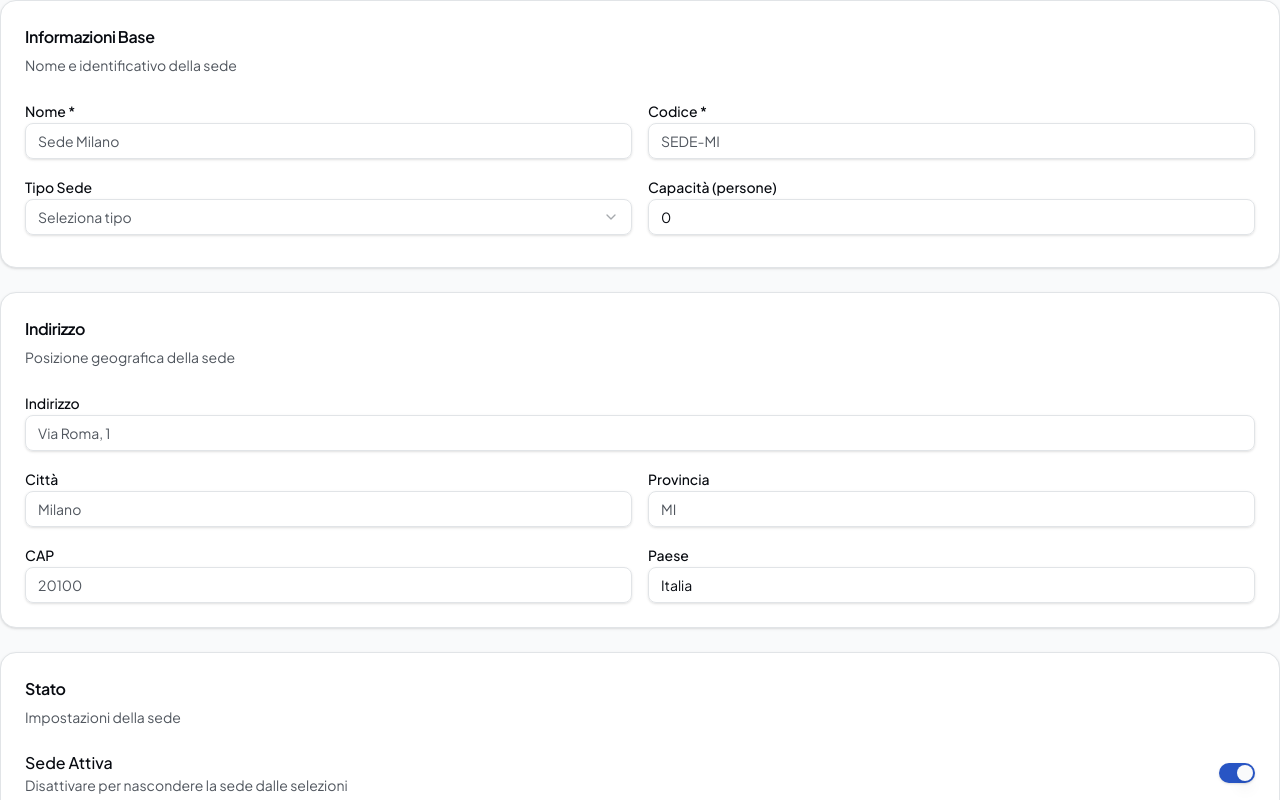
Test case: LocationForm › auto-generates code from name in create mode
Type "Sede Roma" into the field labelled "Nome *". click: (328,141)
box: [25,123,632,159]
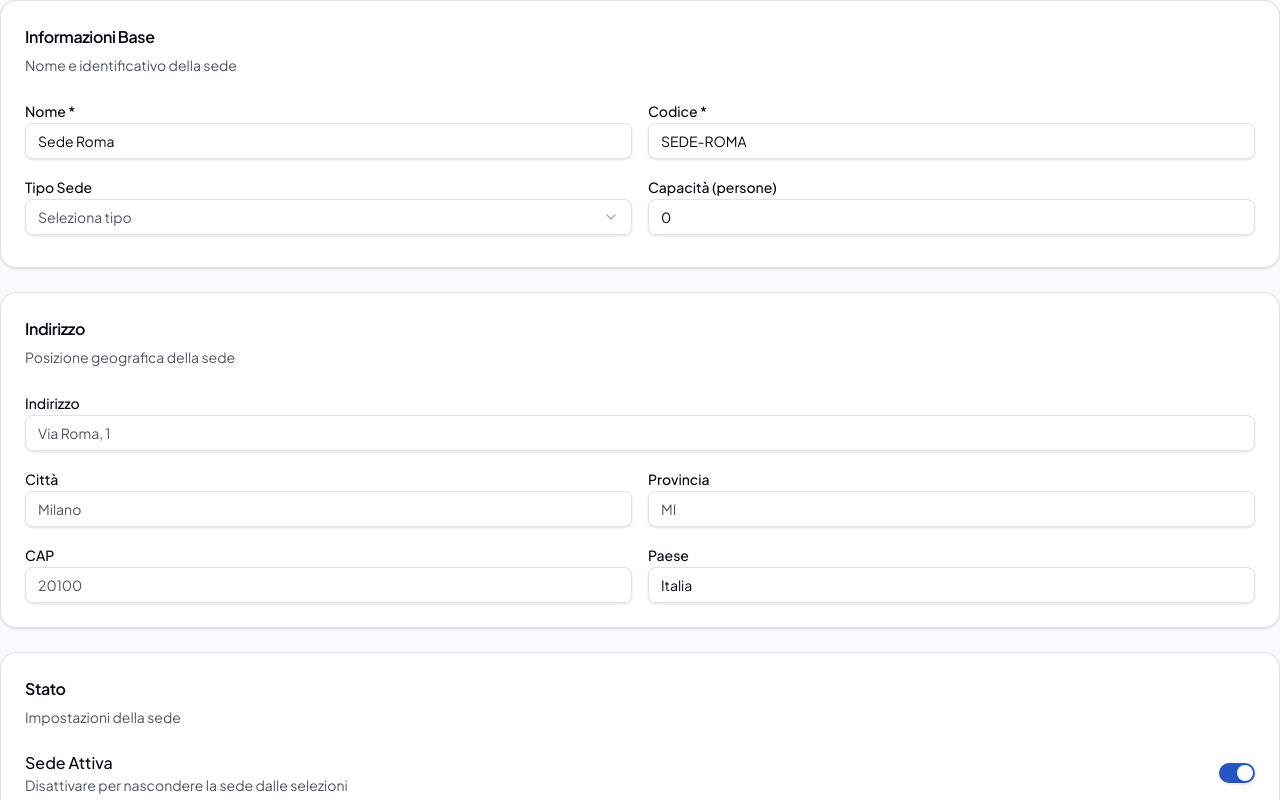
Expected: the field labelled "Codice *" holds "SEDE-ROMA", [648,123,1255,159]
